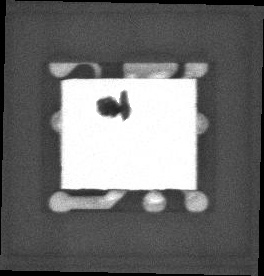DIE_INK: (92, 93, 126, 126)
